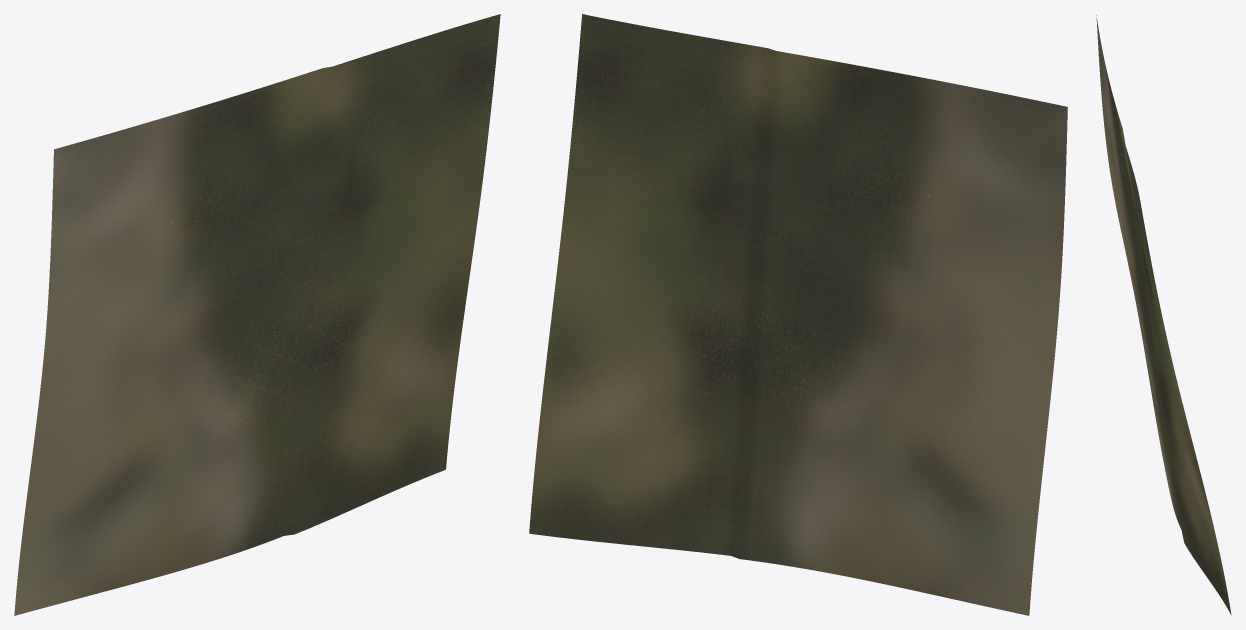
The model's file is ground_core_02_02.obj.
3 renders of one model, left to right at view 1: azimuth 30°, elevation 25°; view 2: azimuth 150°, elevation 25°; view 3: azimuth 270°, elevation 25°, orthographic. The views are drawn at different scales.
Visible parts, largest first — view 1: ground_core_02_02; view 2: ground_core_02_02; view 3: ground_core_02_02.
Boxes of the visible parts, x1,y1,x2,y2 form: ground_core_02_02: (14, 14, 500, 615); ground_core_02_02: (529, 14, 1067, 615); ground_core_02_02: (1096, 15, 1231, 614).
Size of the model in its own units: 50 by 50 by 14.93.
1 material, 1 textured.
